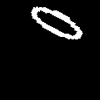chain: (31, 7, 81, 38)
